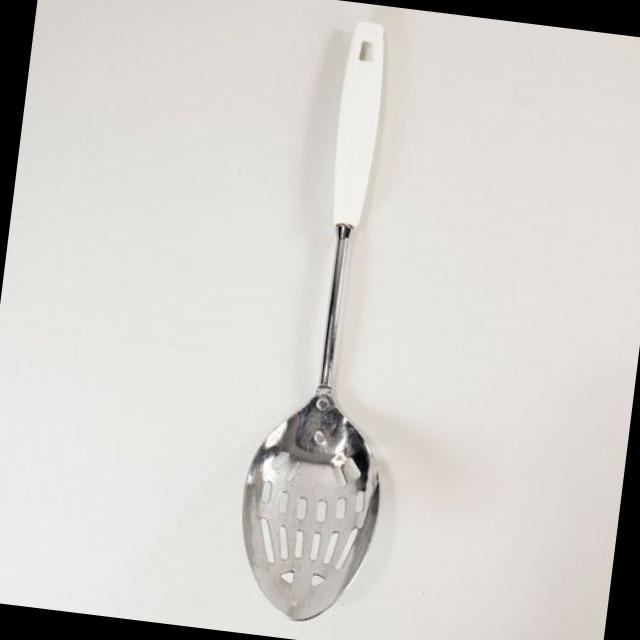spoon: (219, 14, 439, 638)
